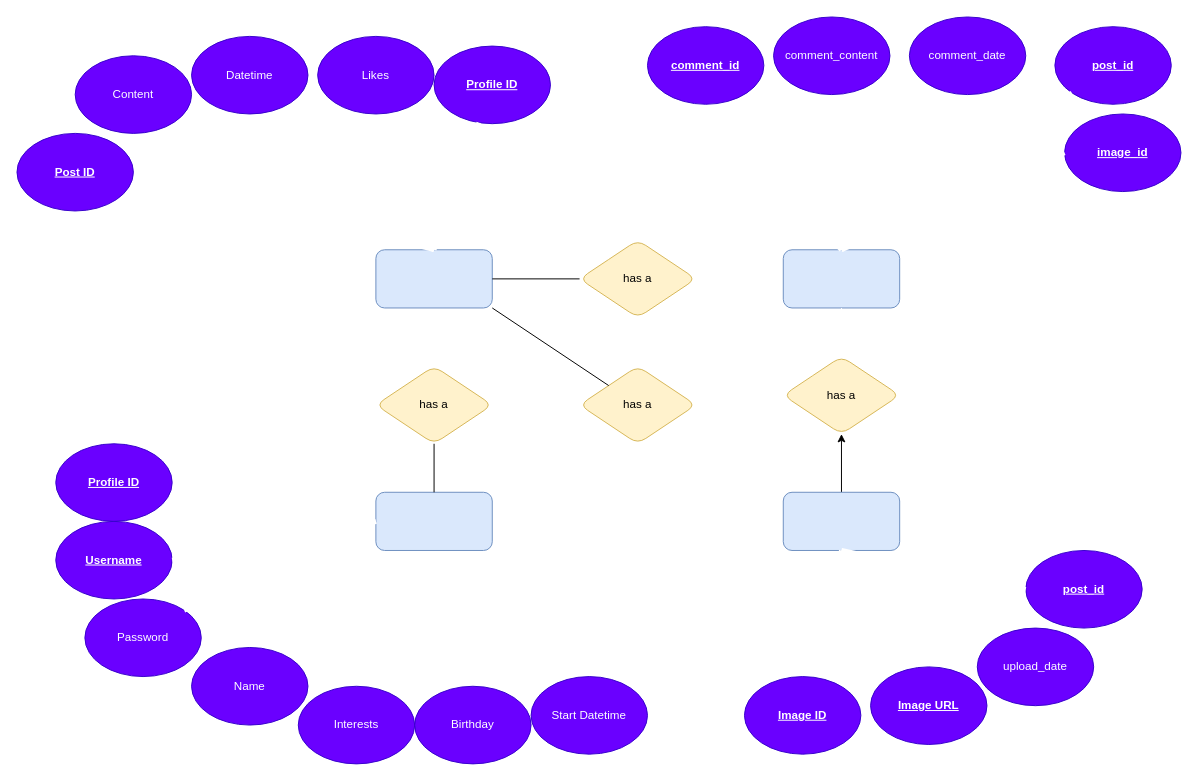
Some shapes in this 1198 by 781 pixel diagram are drawn without their labels. Each missing label, with the centre of its shape:
Comments: point (841, 278)
Images: point (841, 520)
Posts: point (433, 278)
Profiles: point (433, 520)
